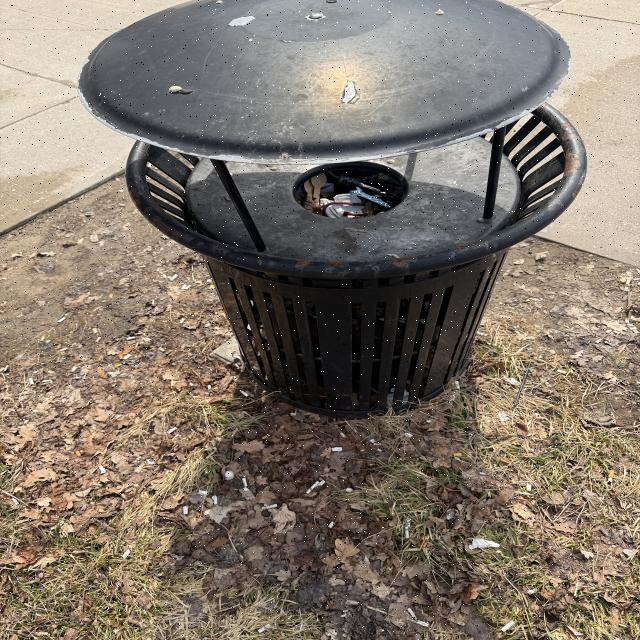Dustbin: (78, 1, 586, 416)
